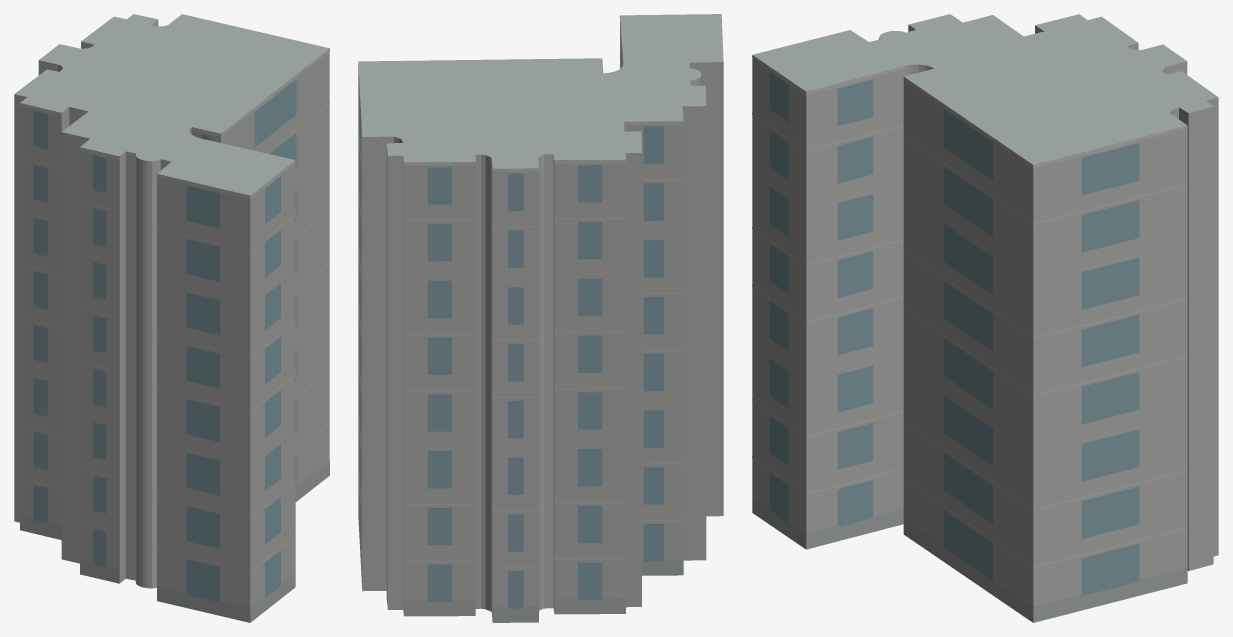
File: survey-upis-32841059.glb
3 views of the same model, side by side, from view 1: azimuth 30°, elevation 25°; view 2: azimuth 150°, elevation 25°; view 3: azimuth 270°, elevation 25° (orthographic). The views are drawn at different scales.
Parts seen in each view (by area): view 1: survey-upis-32841059.tmp; view 2: survey-upis-32841059.tmp; view 3: survey-upis-32841059.tmp.
Boxes of the visible parts, x1,y1,x2,y2 form: survey-upis-32841059.tmp: (14, 14, 329, 622); survey-upis-32841059.tmp: (358, 14, 723, 622); survey-upis-32841059.tmp: (752, 14, 1218, 622).
Size of the model in its own units: 22.61 by 31.95 by 29.52.
